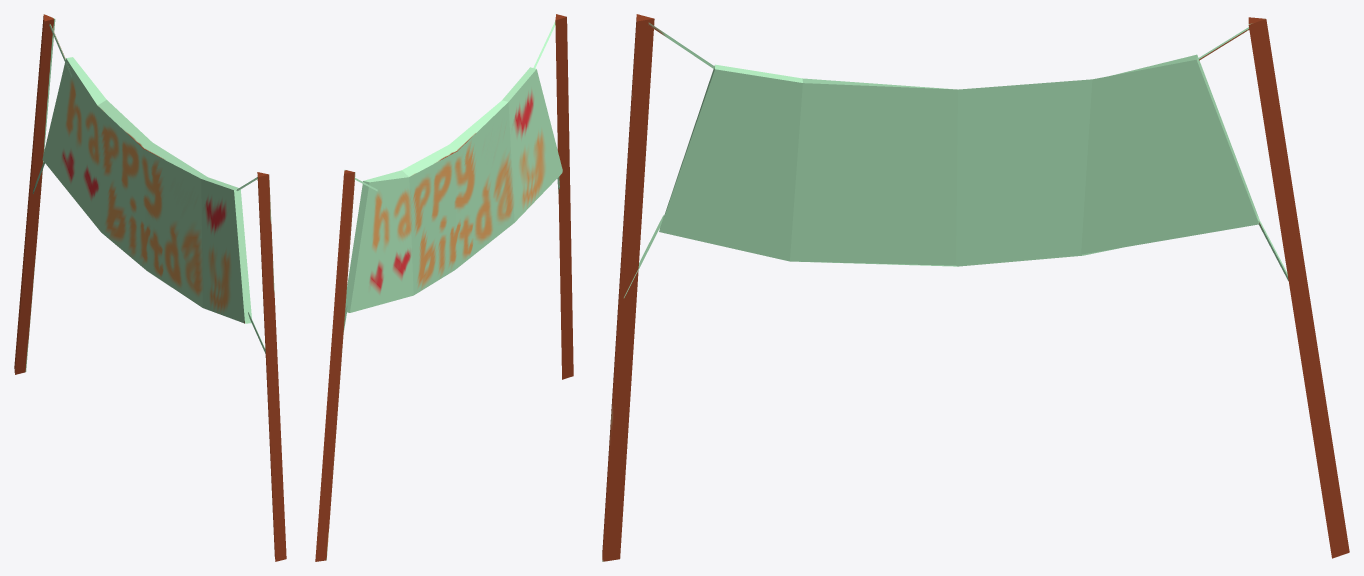
The model's file is Happy Birthday Banner.fbx.
The picture shows the model from 3 angles, left to right: view 1: azimuth 30°, elevation 25°; view 2: azimuth 150°, elevation 25°; view 3: azimuth 270°, elevation 25°; orthographic projection. The views are drawn at different scales.
Visible parts, largest first — view 1: Birthday Banner; view 2: Birthday Banner; view 3: Birthday Banner.
Part boxes in pixels (x1,y1,x2,y2): Birthday Banner: (14,14,286,561); Birthday Banner: (315,14,573,561); Birthday Banner: (602,14,1349,561).
Size of the model in its own units: 75.29 by 1294 by 1630.
